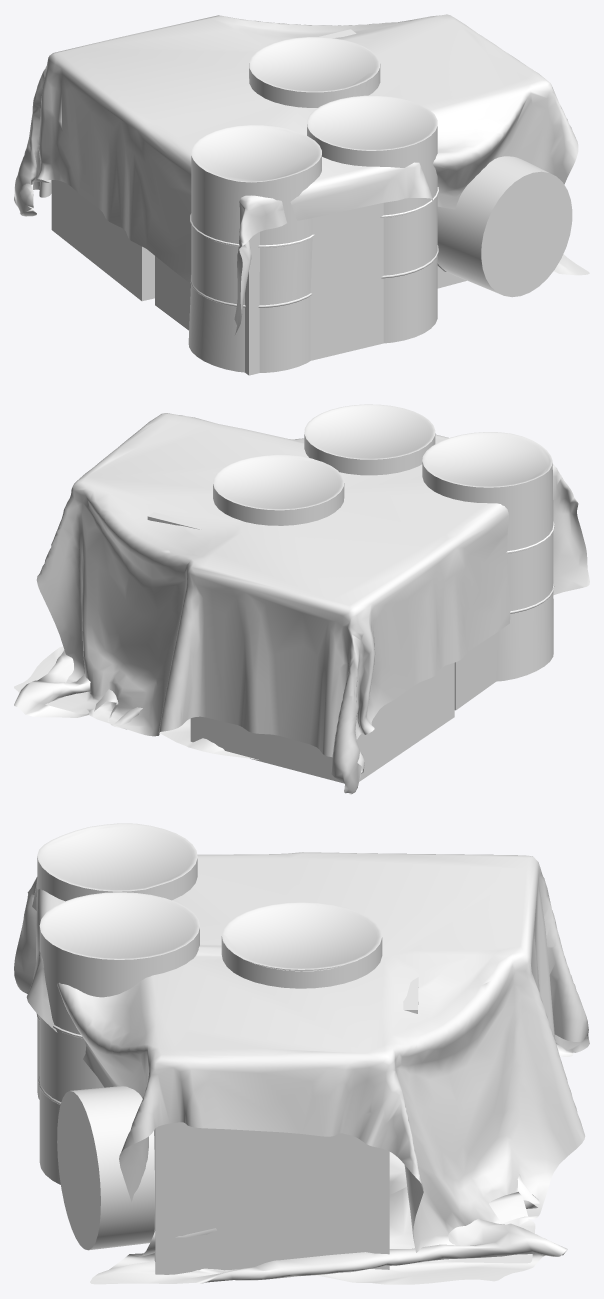
Rendered from crates-barrels.glb.
3 views of the same model, one above another, from view 1: azimuth 30°, elevation 25°; view 2: azimuth 150°, elevation 25°; view 3: azimuth 270°, elevation 25° (orthographic). The views are drawn at different scales.
Parts seen in each view (by area): view 1: CoveredCrates_Part4, CoveredBarrels_Part3, CoveredBarrels_Part1, CoveredBarrels_Part2, CoveredCrates_Part1, Barrel_A_Mesh, CoveredCrates_Part2, Barrel_C_Mesh; view 2: CoveredCrates_Part4, CoveredBarrels_Part3, CoveredCrates_Part2, CoveredBarrels_Part1, Barrel_A_Mesh, CoveredBarrels_Part4, CoveredCrates_Part1, Barrel_C_Mesh; view 3: CoveredCrates_Part4, CoveredCrates_Part3, CoveredBarrels_Part1, CoveredBarrels_Part4, CoveredBarrels_Part2, CoveredBarrels_Part3, Barrel_A_Mesh, Barrel_C_Mesh.
Part boxes in pixels (x1,y1,x2,y2): CoveredCrates_Part4: (14, 14, 578, 334); CoveredBarrels_Part3: (188, 124, 321, 372); CoveredBarrels_Part1: (307, 95, 438, 343); CoveredBarrels_Part2: (437, 156, 572, 297); CoveredCrates_Part1: (155, 203, 383, 375); Barrel_A_Mesh: (249, 37, 379, 107); CoveredCrates_Part2: (51, 180, 154, 301); Barrel_C_Mesh: (252, 37, 380, 101); CoveredCrates_Part4: (36, 413, 589, 794); CoveredBarrels_Part3: (422, 432, 554, 681); CoveredCrates_Part2: (190, 662, 454, 783); CoveredBarrels_Part1: (304, 404, 435, 475); Barrel_A_Mesh: (213, 456, 344, 525); CoveredBarrels_Part4: (14, 646, 258, 759); CoveredCrates_Part1: (454, 632, 497, 710); Barrel_C_Mesh: (213, 454, 313, 525); CoveredCrates_Part4: (14, 852, 589, 1263); CoveredCrates_Part3: (154, 1122, 389, 1274); CoveredBarrels_Part1: (38, 892, 199, 1184); CoveredBarrels_Part4: (90, 1152, 567, 1284); CoveredBarrels_Part2: (57, 1086, 154, 1250); CoveredBarrels_Part3: (36, 823, 197, 1099); Barrel_A_Mesh: (221, 902, 382, 971); Barrel_C_Mesh: (222, 904, 382, 988).
Bounding box in the file's own units: 2.25 × 1.07 × 2.35.
Materials: 4 (2 with a texture image).
